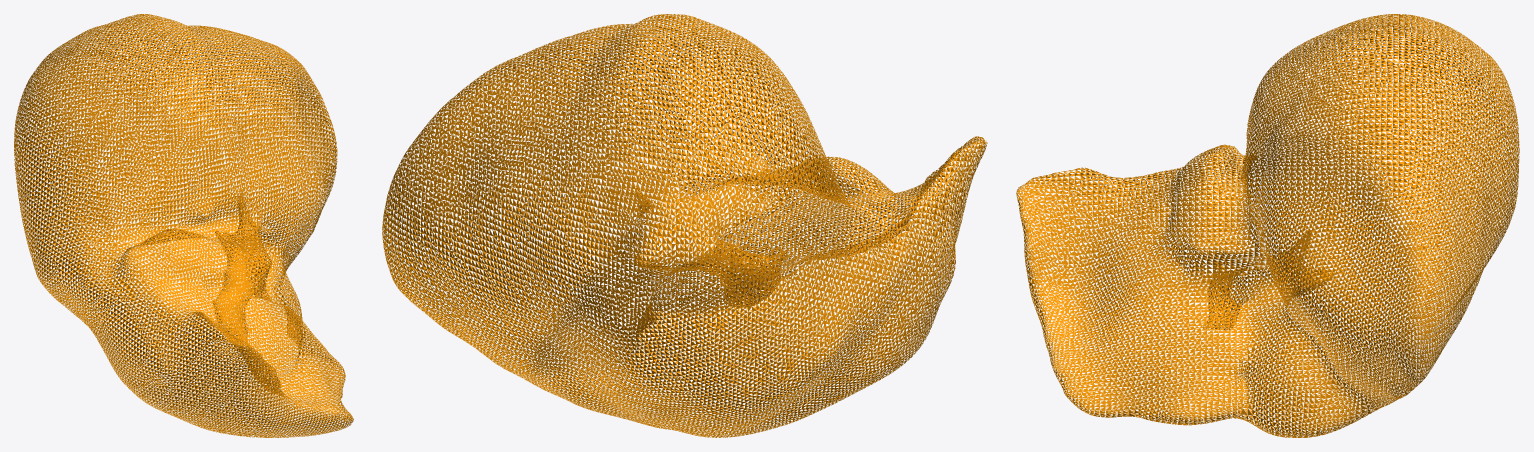
Rendered from liver4.gltf.
3 views of the same model, side by side, from view 1: azimuth 30°, elevation 25°; view 2: azimuth 150°, elevation 25°; view 3: azimuth 270°, elevation 25° (orthographic). The views are drawn at different scales.
Visible parts, largest first — view 1: Renderer Node; view 2: Renderer Node; view 3: Renderer Node.
Boxes of the visible parts, <box> form: Renderer Node: <box>14,14,353,437</box>; Renderer Node: <box>382,14,987,437</box>; Renderer Node: <box>1016,14,1519,437</box>.
Size of the model in its own units: 155 by 153 by 191.
